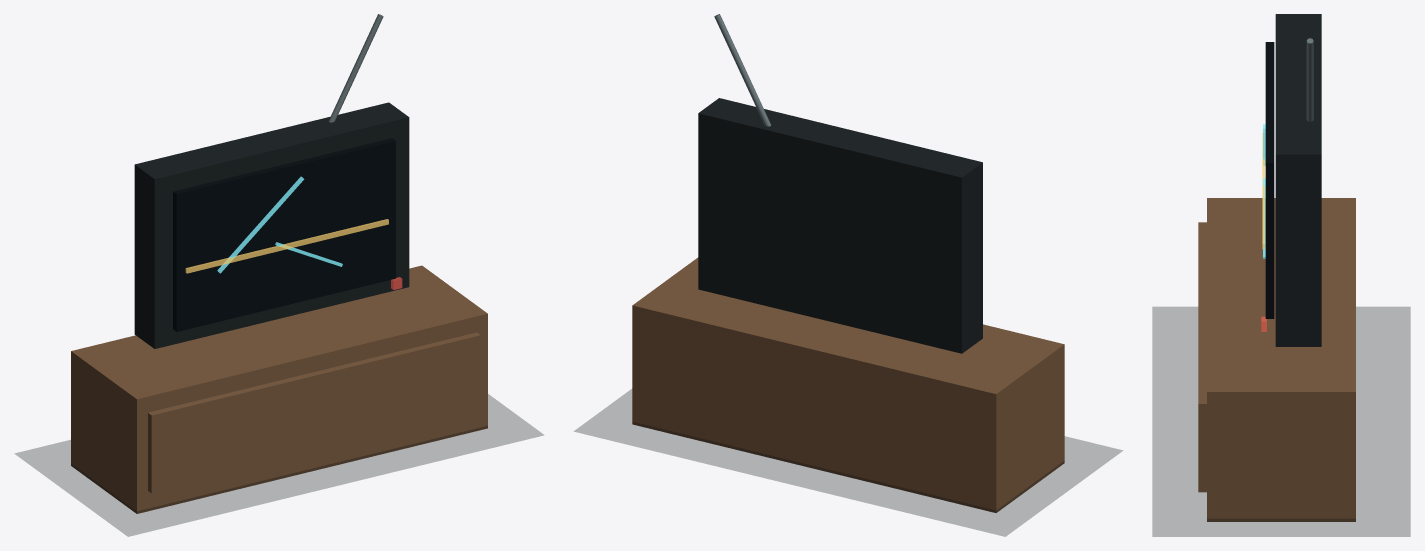
The model's file is hp_room_rm_home_tv_shrine_broken.glb.
3 renders of one model, left to right at view 1: azimuth 30°, elevation 25°; view 2: azimuth 150°, elevation 25°; view 3: azimuth 270°, elevation 25°, orthographic. The views are drawn at different scales.
Parts seen in each view (by area): view 1: wood_console, tv_screen, console_doors, tv_body, contact_shadow, stubborn_scanline, antenna, crack_a; view 2: wood_console, tv_body, contact_shadow, antenna; view 3: wood_console, contact_shadow, tv_body, tv_screen, console_doors, antenna.
Boxes of the visible parts, box(x1,y1,x2,y2) form: wood_console: box(71, 265, 487, 513); tv_screen: box(173, 138, 395, 331); console_doors: box(148, 332, 480, 493); tv_body: box(134, 102, 409, 348); contact_shadow: box(15, 394, 543, 536); stubborn_scanline: box(185, 219, 388, 273); antenna: box(328, 14, 383, 122); crack_a: box(217, 176, 304, 273); wood_console: box(632, 257, 1064, 512); tv_body: box(698, 98, 982, 353); contact_shadow: box(574, 389, 1122, 536); antenna: box(714, 14, 771, 126); wood_console: box(1207, 198, 1355, 521); contact_shadow: box(1152, 307, 1410, 536); tv_body: box(1275, 14, 1321, 346); tv_screen: box(1265, 42, 1274, 318); console_doors: box(1198, 222, 1206, 492); antenna: box(1306, 38, 1313, 121).
Size of the model in its own units: 1.9 by 1.73 by 0.9.
